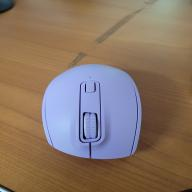mouse: (35, 56, 152, 162)
